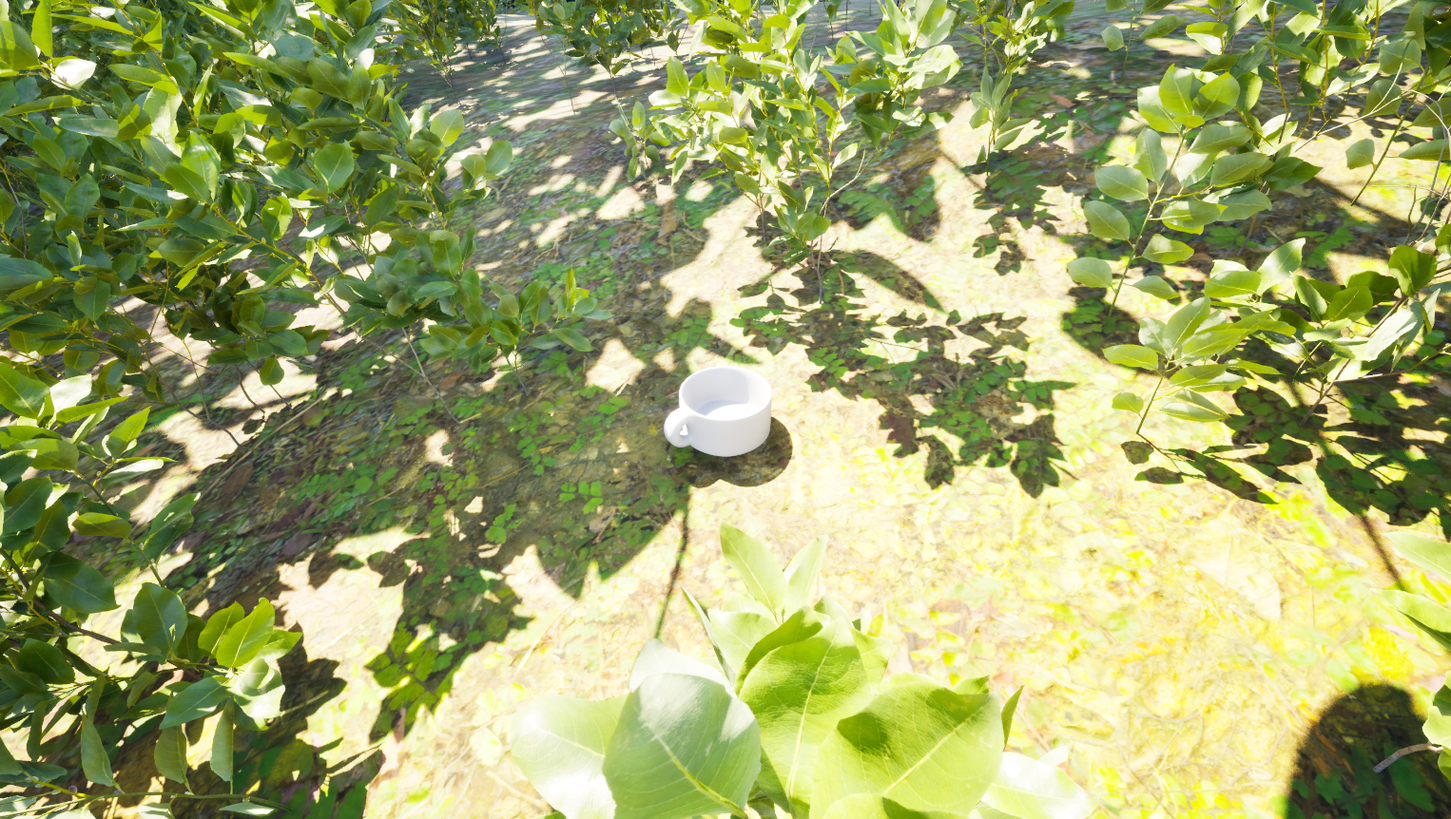Teacup: (661, 365, 776, 458)
